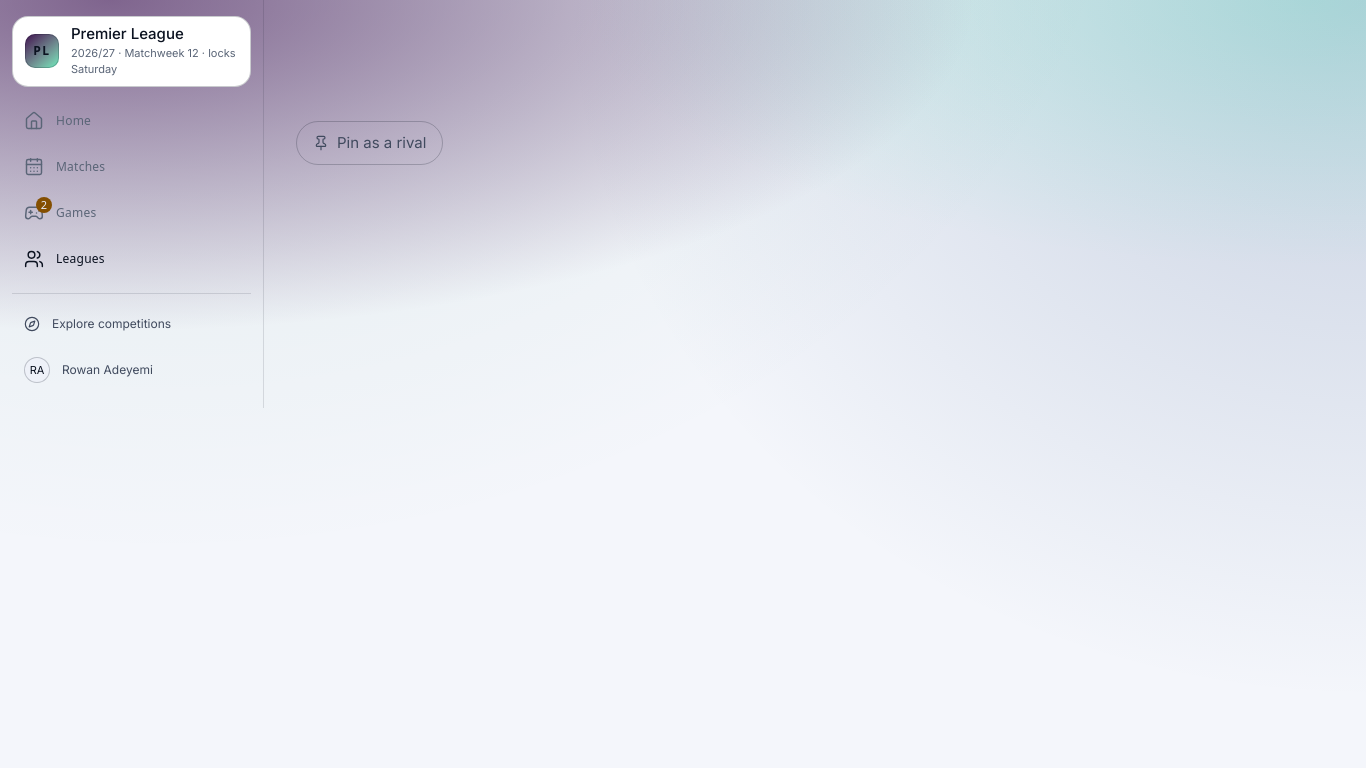
Test: pinning a rival › moves back when the write refuses, and says why
Click the button "Pin as a rival".
click(370, 143)  # box [296, 121, 443, 165]
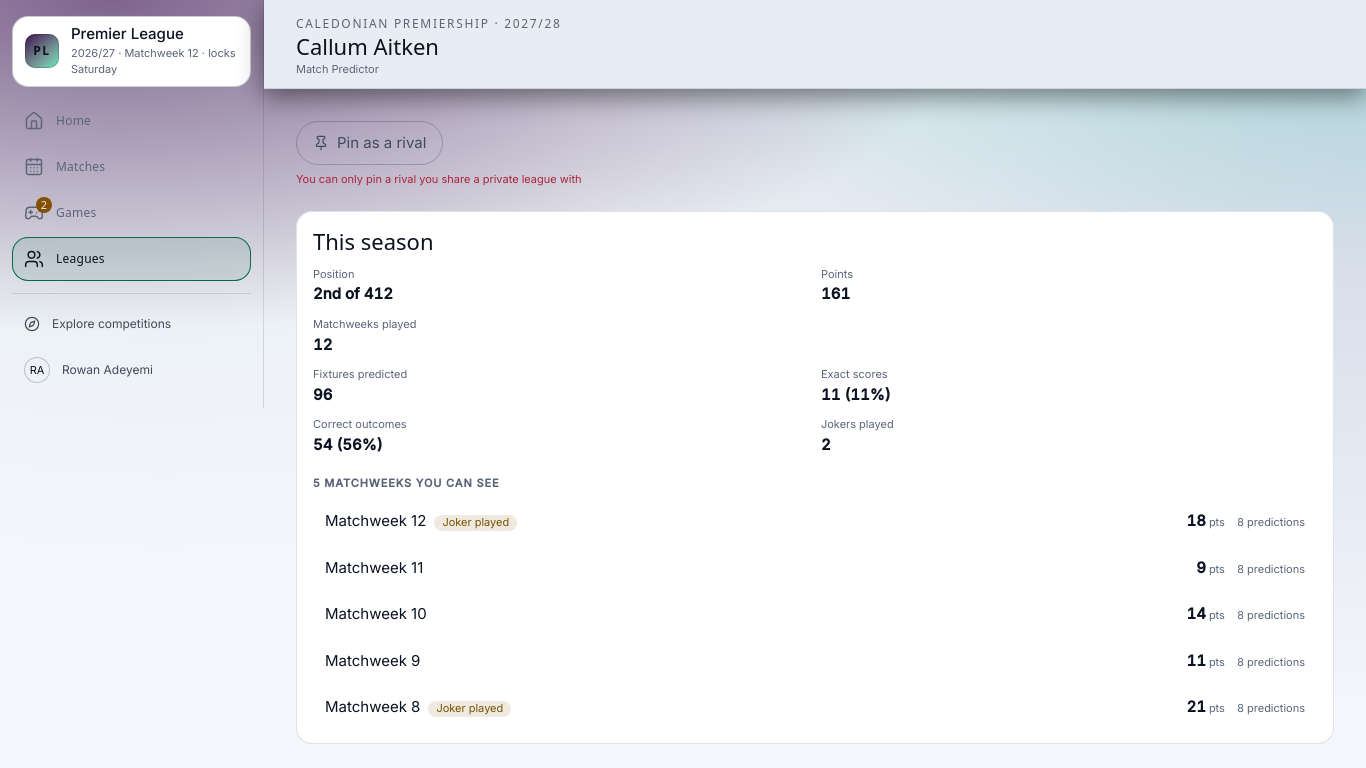
Check: the message shows "share a private league", box [296, 172, 582, 186]
